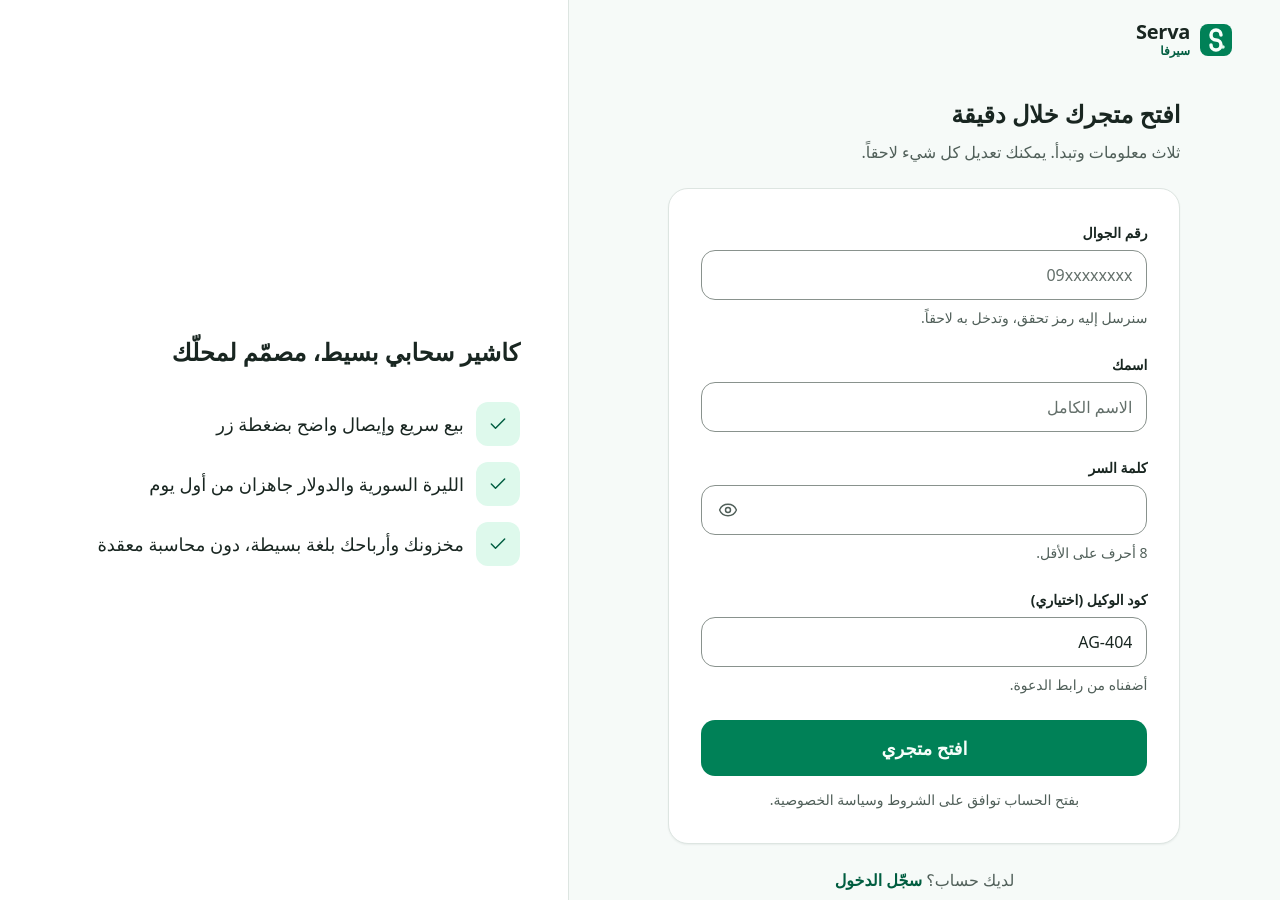
Scenario: RegisterPage › shows a server field error next to the right field
Type "0912 345 678" into the field labelled "رقم الجوال" at (924, 275), box [702,251,1146,299]
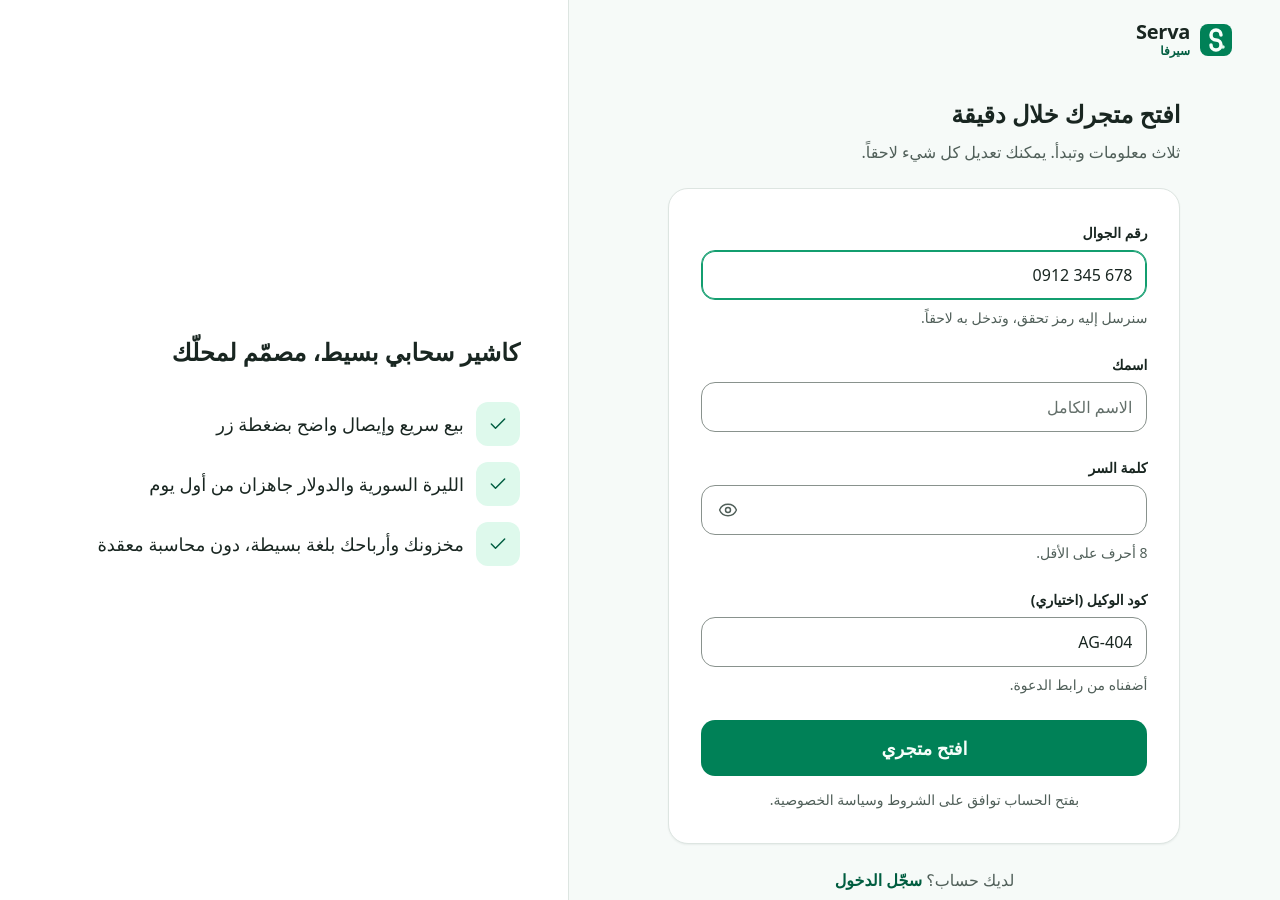
Type "أحمد الخطيب" into the field labelled "اسمك" at (924, 407), box [702,383,1146,431]
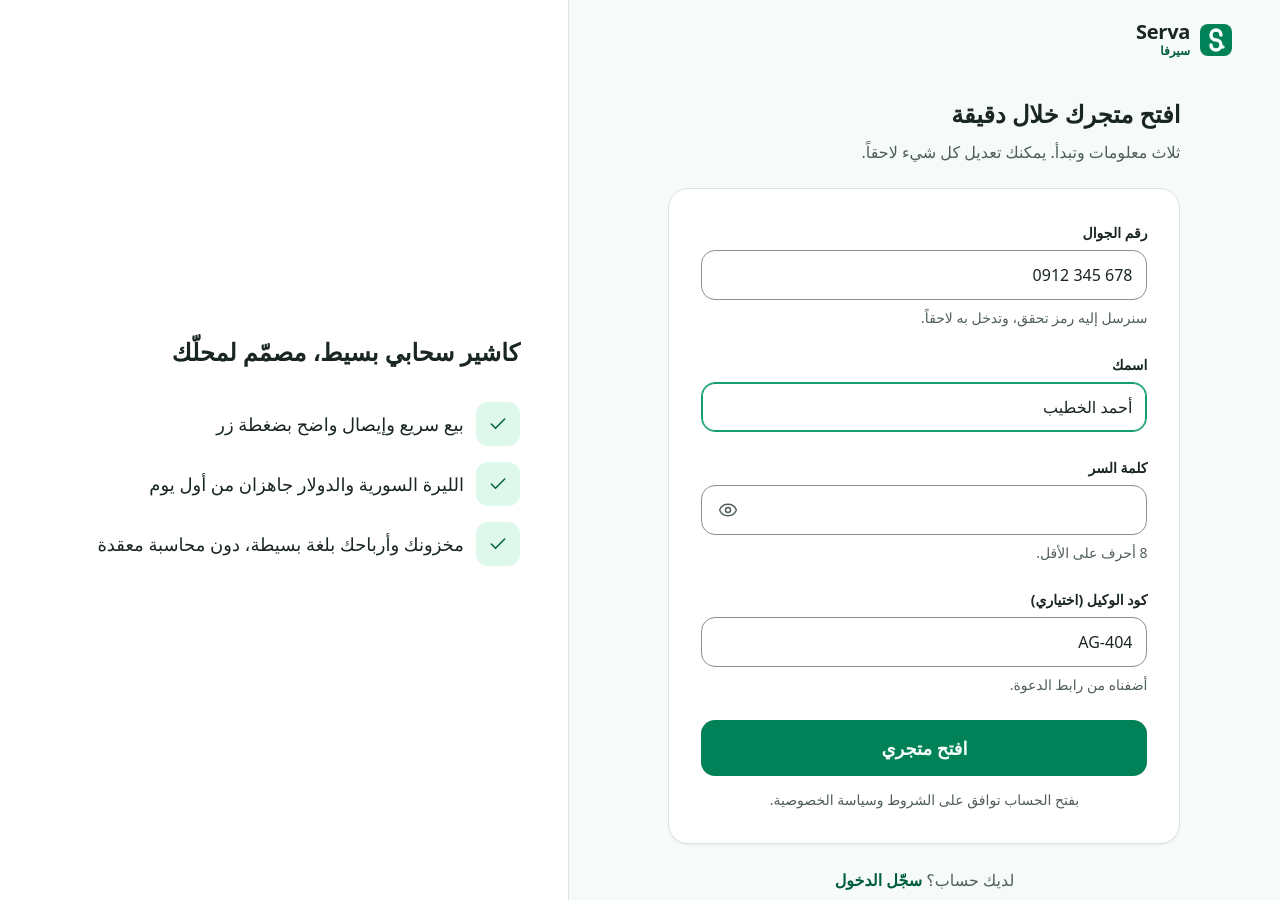
Type "secret-pass" into the password field labelled "كلمة السر" at (948, 510), box [750,486,1146,534]
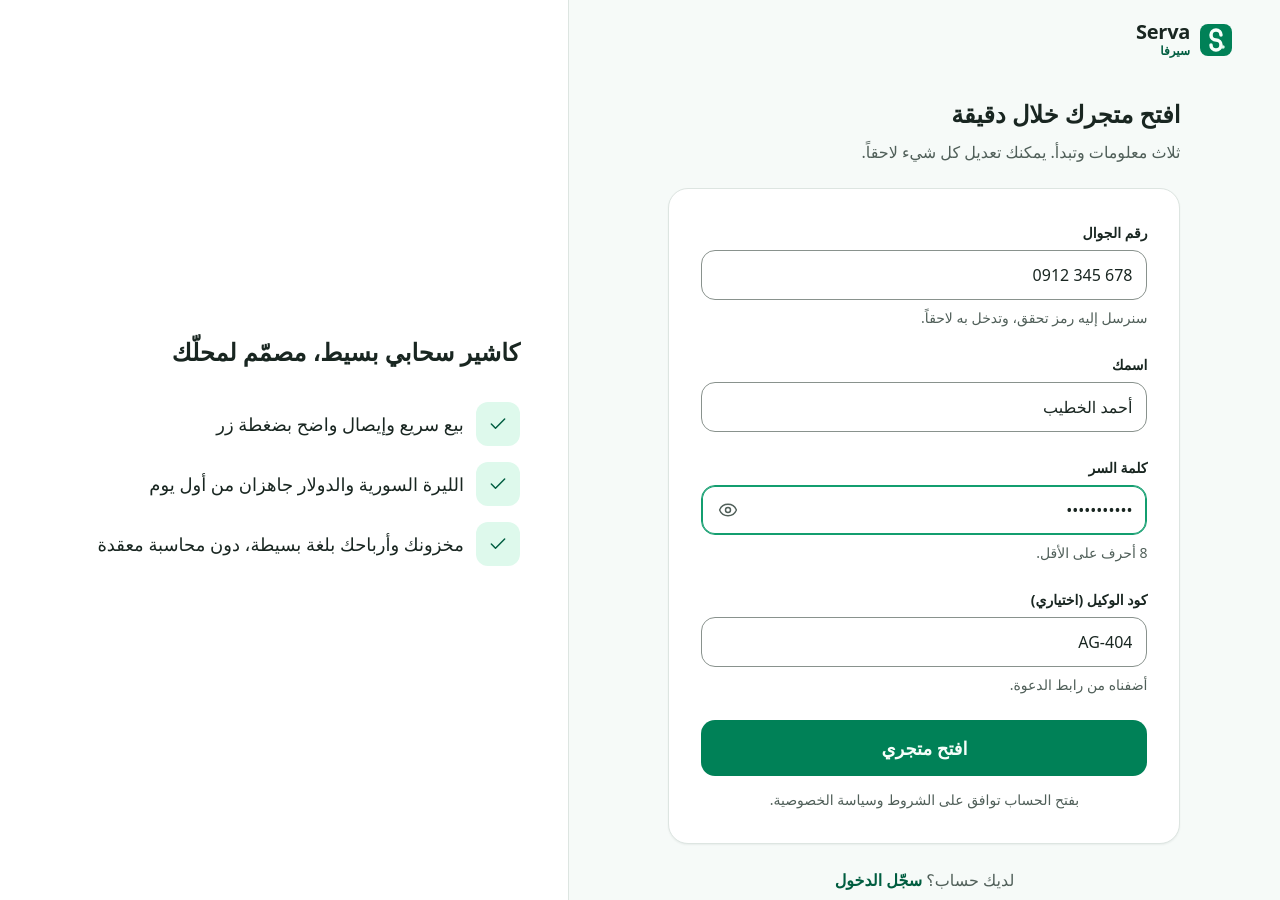
Click the button "افتح متجري" at (924, 748), box [702,720,1148,776]
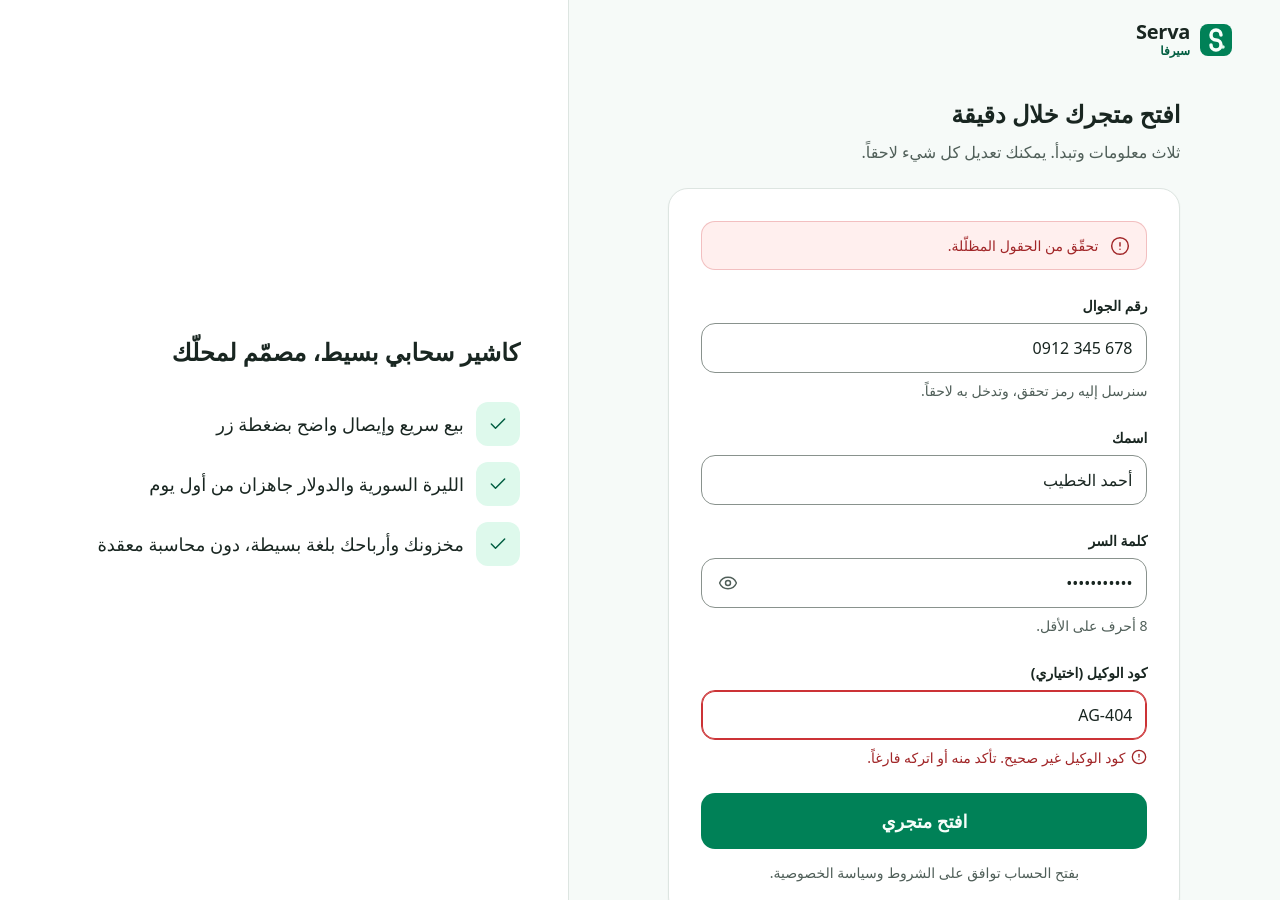
expect the text "كود الوكيل غير صحيح. تأكد منه أو اتركه فارغاً." is shown: met, box [867,746,1125,769]
